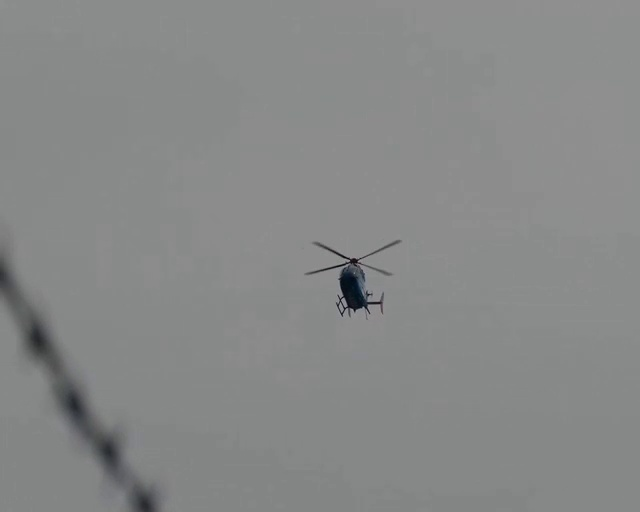HELICOPTER: (303, 239, 402, 319)
